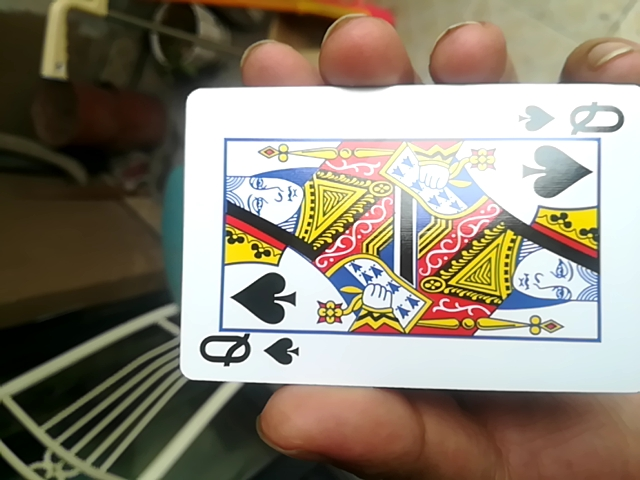ht q: (171, 74, 640, 403)
